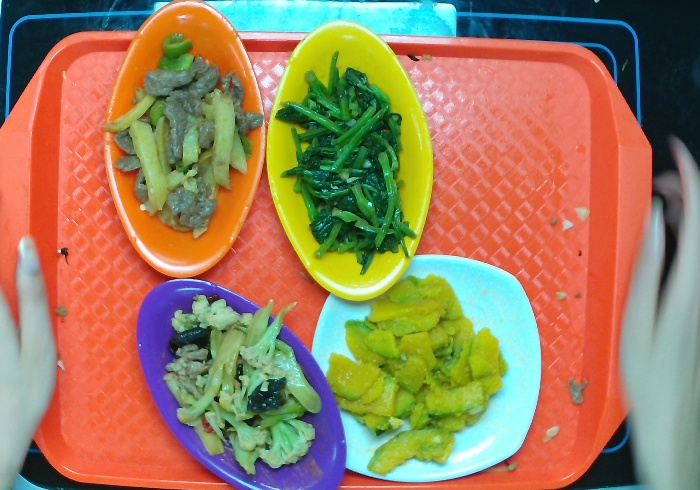RJxy-Fen_Hong_Tuo_Yuan: (136, 277, 347, 490)
RJxy-Huang_Se_Tuo_Yuan: (264, 18, 435, 303)
RJxy-Ju_Huang_Tuo_Yuan: (101, 1, 269, 280)
RJxy-Si_Fang_Die: (309, 251, 544, 484)
